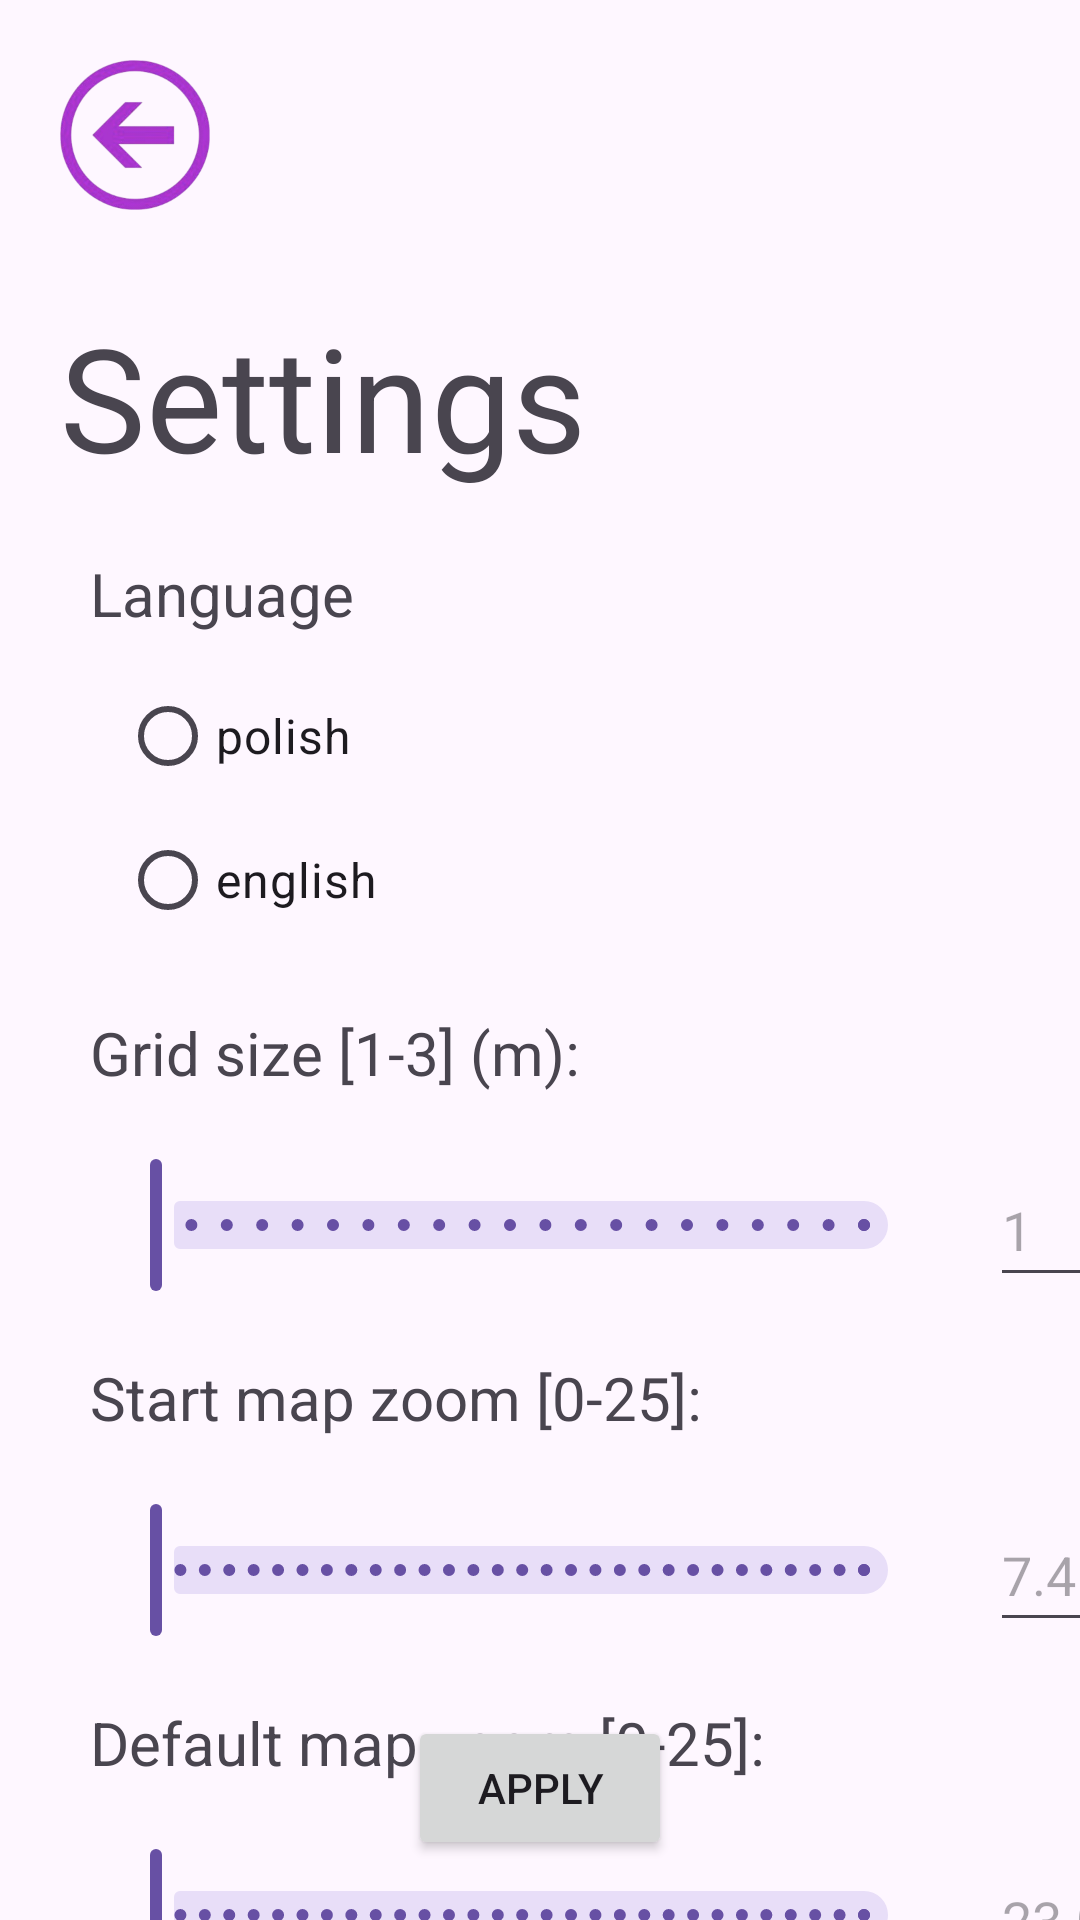

Locate icon controls on the screen. Image size 1080px x 1920px, boxes as (x1, y1, x2, y2).
Back image: (60, 60, 210, 210)
